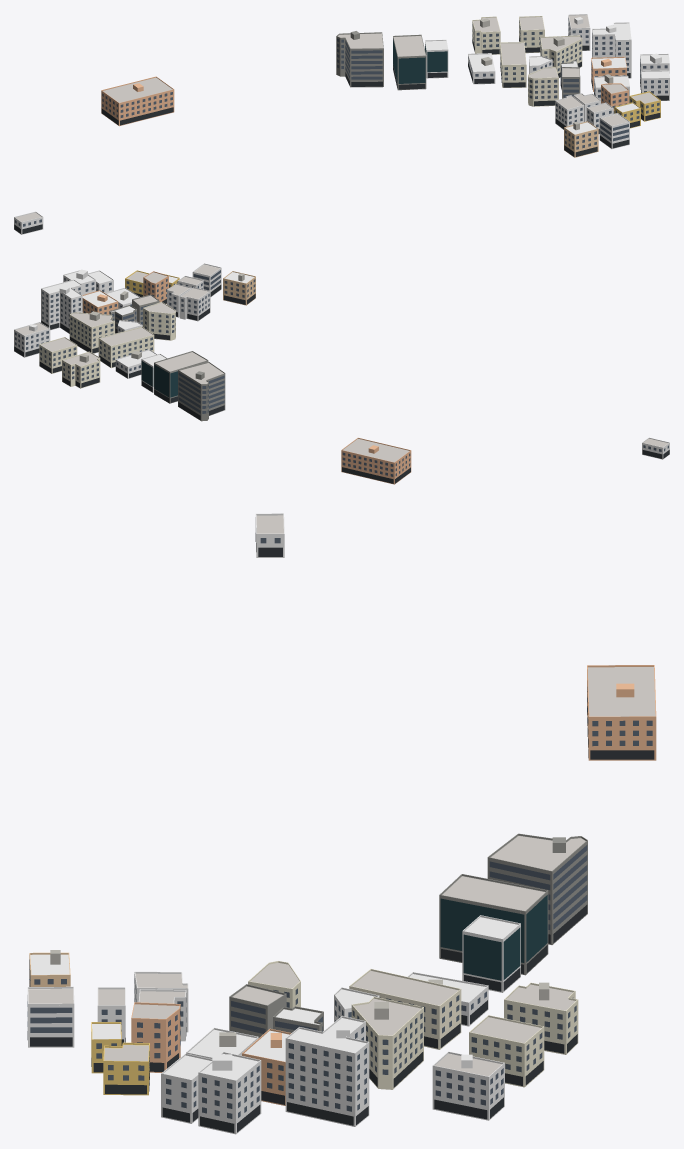
File: fill_mid_n.glb
3 views of the same model, one above another, from view 1: azimuth 30°, elevation 25°; view 2: azimuth 150°, elevation 25°; view 3: azimuth 270°, elevation 25° (orthographic). The views are drawn at different scales.
Visible parts, largest first — view 1: fill_mid_n; view 2: fill_mid_n; view 3: fill_mid_n.
Boxes of the visible parts, box(x1,y1,x2,y2) form: fill_mid_n: box(14, 14, 669, 234); fill_mid_n: box(14, 263, 669, 484); fill_mid_n: box(27, 513, 656, 1134).
Bounding box in the file's own units: 385 × 24.6 × 172.
